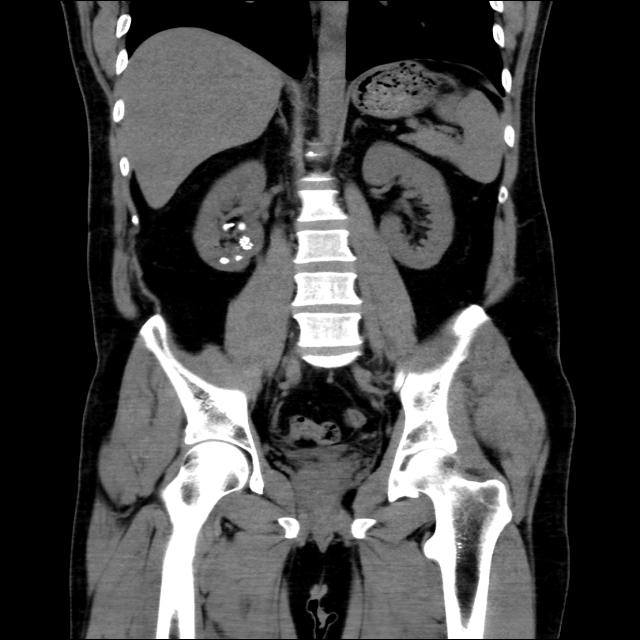kidneystone: (238, 236, 250, 248), (222, 222, 234, 231), (237, 222, 246, 230), (219, 258, 229, 264), (235, 255, 242, 260)
